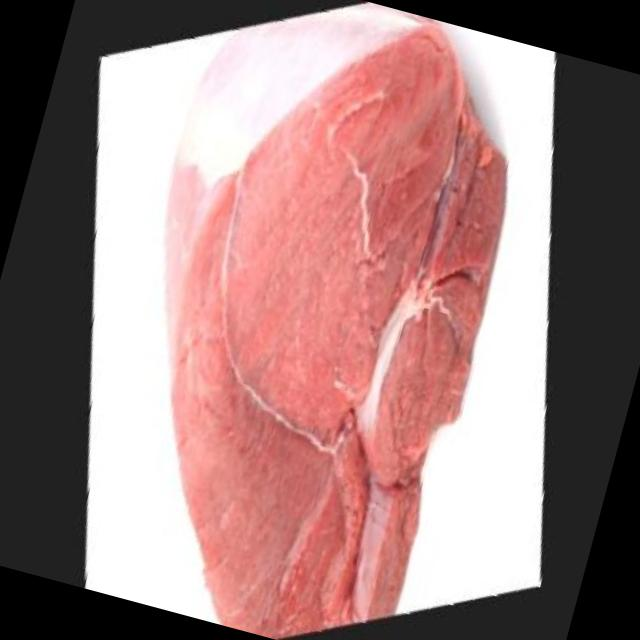beaf: (25, 0, 635, 640)
